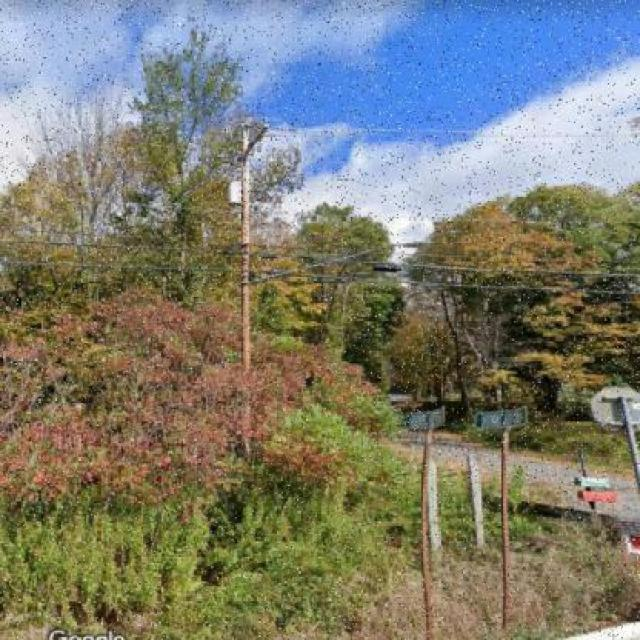pole: (206, 101, 300, 478)
